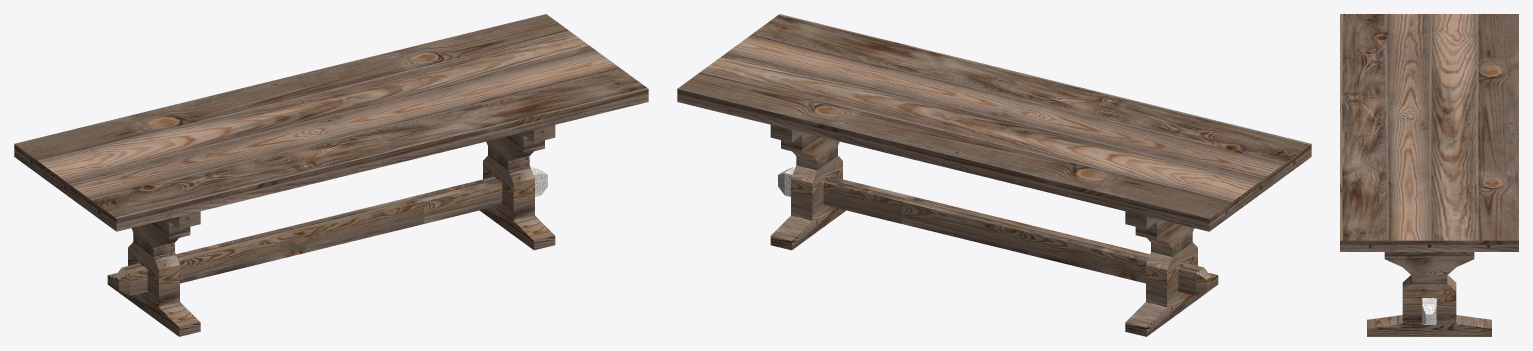
File: table_3m.dae
3 renders of one model, left to right at view 1: azimuth 30°, elevation 25°; view 2: azimuth 150°, elevation 25°; view 3: azimuth 270°, elevation 25°, orthographic. The views are drawn at different scales.
Visible parts, largest first — view 1: SketchUp (×5); view 2: SketchUp (×5); view 3: SketchUp (×3).
Part boxes in pixels (x1,y1,x2,y2): SketchUp (×5): (14, 14, 648, 336); SketchUp (×5): (677, 14, 1311, 336); SketchUp (×3): (1340, 14, 1518, 336).
Bounding box in the file's own units: 118 × 39.37 × 31.5.
Materials: 5 (3 with a texture image).
